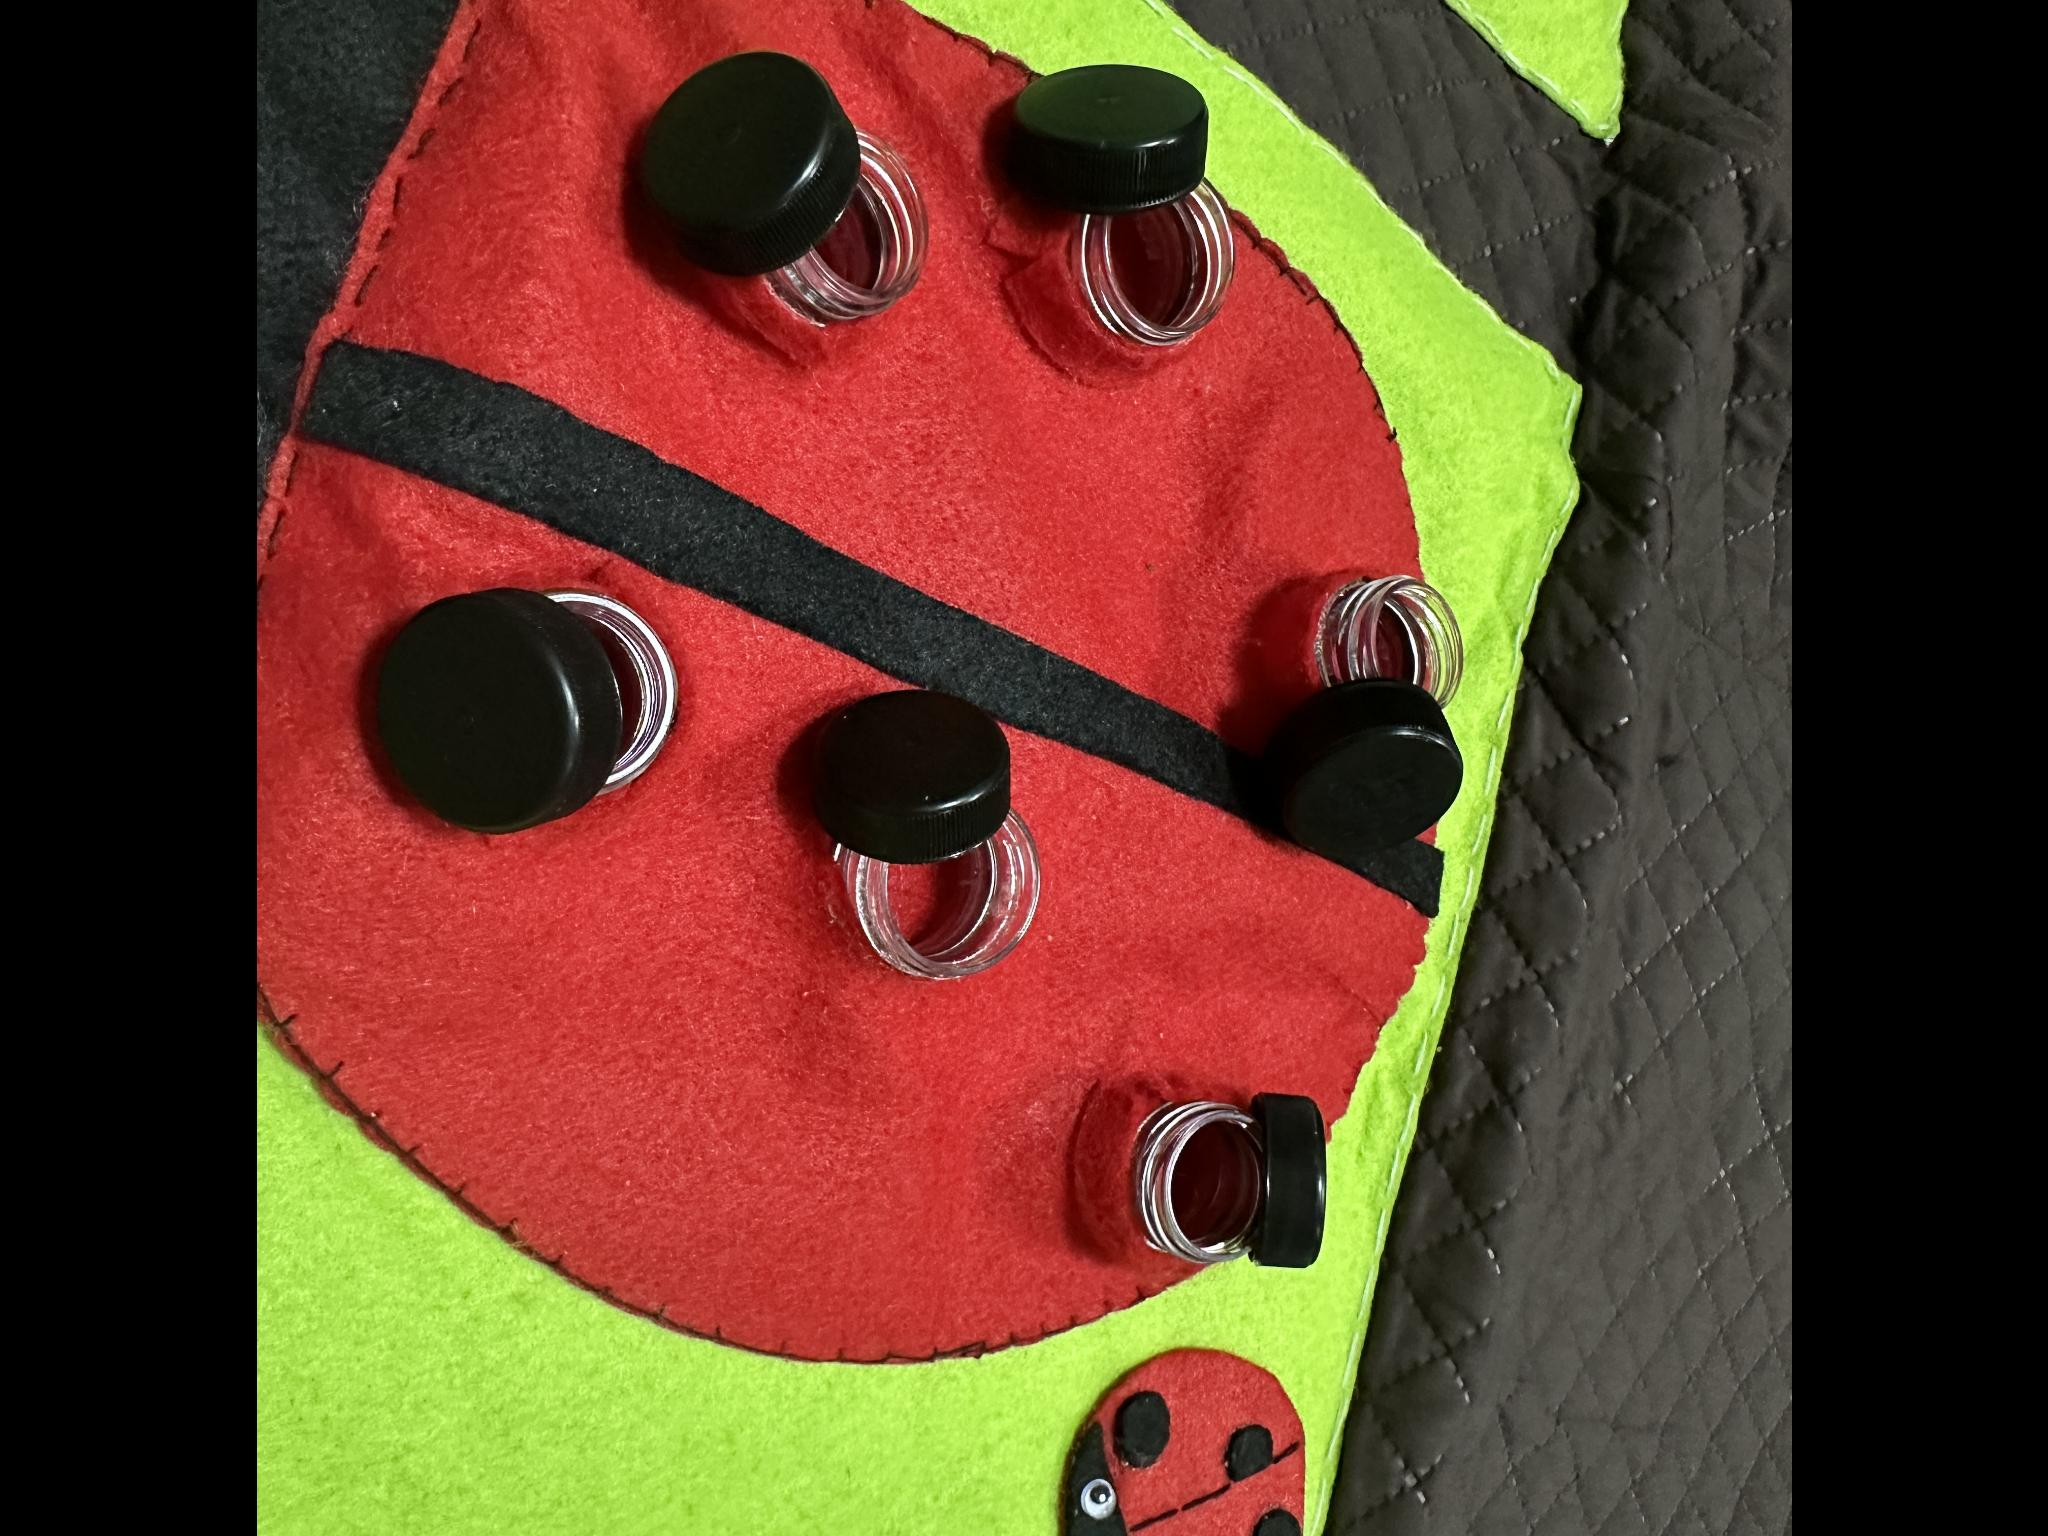cap_ng: (603, 35, 943, 363), (339, 553, 698, 852), (769, 658, 1063, 999), (977, 58, 1269, 374), (1214, 550, 1472, 860), (1050, 1076, 1355, 1276)
